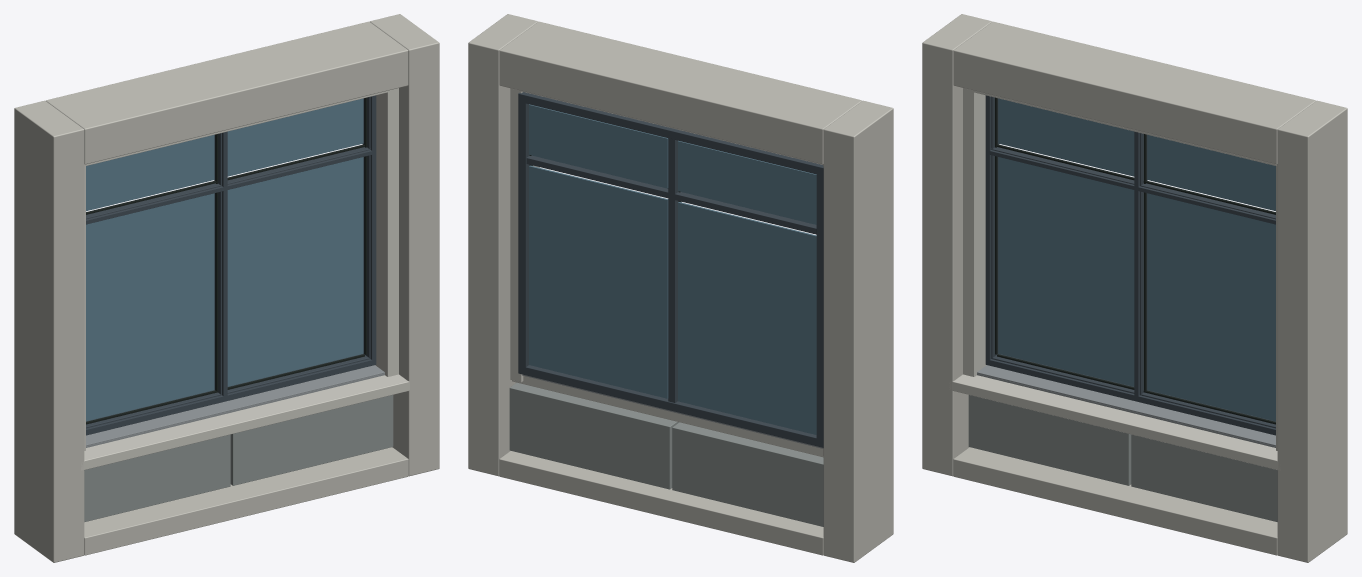
The model's file is facade-bay.glb.
The picture shows the model from 3 angles, left to right: view 1: azimuth 30°, elevation 25°; view 2: azimuth 150°, elevation 25°; view 3: azimuth 330°, elevation 25°; orthographic projection.
Visible parts, largest first — view 1: column_left, glass_right_lower, glass_left_lower, beam_top, column_right, slab_base, spandrel_right, spandrel_left, sill_stone, window_outer_frame, return_right, glass_right_upper (+7 smaller); view 2: column_left, glass_right_lower, glass_left_lower, beam_top, column_right, window_outer_frame, spandrel_right, spandrel_left, slab_base, glass_right_upper, glass_left_upper, window_transom (+4 smaller); view 3: column_right, glass_left_lower, glass_right_lower, beam_top, column_left, slab_base, spandrel_left, spandrel_right, sill_stone, window_outer_frame, return_left, glass_left_upper (+7 smaller).
Part boxes in pixels (x1=…): column_left: x1=14, y1=100, x2=84, y2=562; glass_right_lower: x1=227, y1=157, x2=363, y2=386; glass_left_lower: x1=86, y1=193, x2=214, y2=421; beam_top: x1=46, y1=21, x2=408, y2=164; column_right: x1=370, y1=14, x2=439, y2=476; slab_base: x1=84, y1=447, x2=408, y2=555; spandrel_right: x1=230, y1=395, x2=393, y2=485; spandrel_left: x1=84, y1=434, x2=230, y2=521; sill_stone: x1=81, y1=374, x2=409, y2=470; window_outer_frame: x1=86, y1=95, x2=376, y2=435; return_right: x1=375, y1=88, x2=398, y2=376; glass_right_upper: x1=227, y1=98, x2=363, y2=176; column_left: x1=823, y1=100, x2=893, y2=562; glass_right_lower: x1=529, y1=165, x2=668, y2=398; glass_left_lower: x1=678, y1=202, x2=816, y2=434; beam_top: x1=499, y1=21, x2=861, y2=164; column_right: x1=468, y1=14, x2=537, y2=476; window_outer_frame: x1=518, y1=92, x2=823, y2=447; spandrel_right: x1=509, y1=382, x2=678, y2=489; spandrel_left: x1=672, y1=422, x2=823, y2=526; slab_base: x1=499, y1=451, x2=823, y2=555; glass_right_upper: x1=529, y1=104, x2=668, y2=188; glass_left_upper: x1=678, y1=140, x2=816, y2=224; window_transom: x1=526, y1=155, x2=816, y2=234; column_right: x1=1277, y1=100, x2=1347, y2=562; glass_left_lower: x1=998, y1=157, x2=1134, y2=386; glass_right_lower: x1=1147, y1=193, x2=1275, y2=421; beam_top: x1=953, y1=21, x2=1315, y2=164; column_left: x1=922, y1=14, x2=991, y2=476; slab_base: x1=953, y1=447, x2=1277, y2=555; spandrel_left: x1=968, y1=395, x2=1131, y2=485; spandrel_right: x1=1131, y1=434, x2=1277, y2=521; sill_stone: x1=949, y1=374, x2=1280, y2=470; window_outer_frame: x1=985, y1=95, x2=1275, y2=435; return_left: x1=963, y1=88, x2=986, y2=376; glass_left_upper: x1=998, y1=98, x2=1134, y2=176.
Size of the model in its own units: 3.6 by 3.8 by 0.64.
